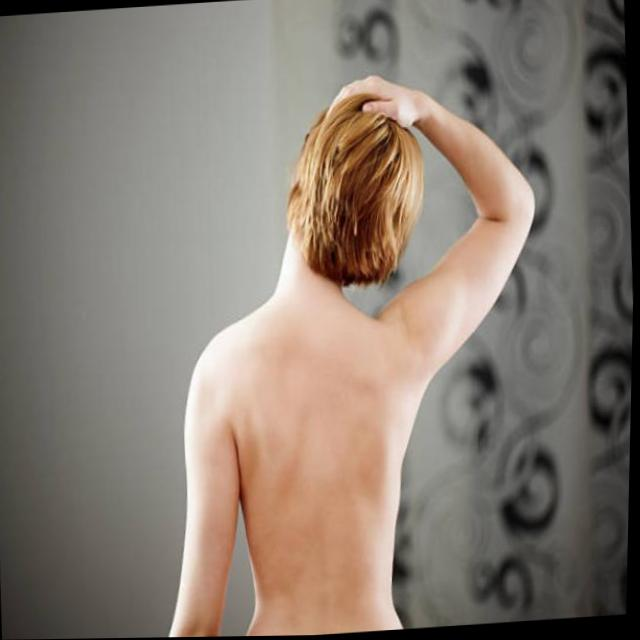no helmet: (281, 112, 431, 304)
